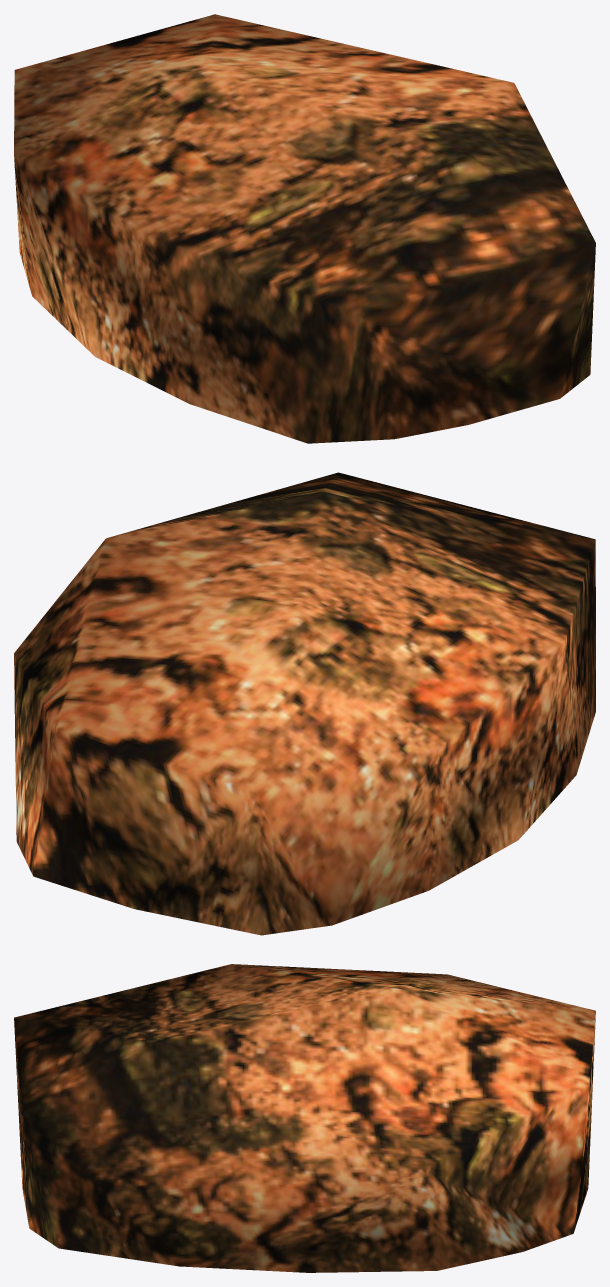
The model's file is stone7_tex3.fbx.
3 renders of one model, top to bottom at view 1: azimuth 30°, elevation 25°; view 2: azimuth 150°, elevation 25°; view 3: azimuth 270°, elevation 25°, orthographic. The views are drawn at different scales.
Parts seen in each view (by area): view 1: stone7_tex3Object; view 2: stone7_tex3Object; view 3: stone7_tex3Object.
Part boxes in pixels (box(x1,y1,x2,y2)): stone7_tex3Object: box(14, 14, 595, 443); stone7_tex3Object: box(14, 472, 595, 935); stone7_tex3Object: box(14, 964, 595, 1272).
Size of the model in its own units: 1.1 by 0.5238 by 1.51.
Materials: 1 (1 with a texture image).
